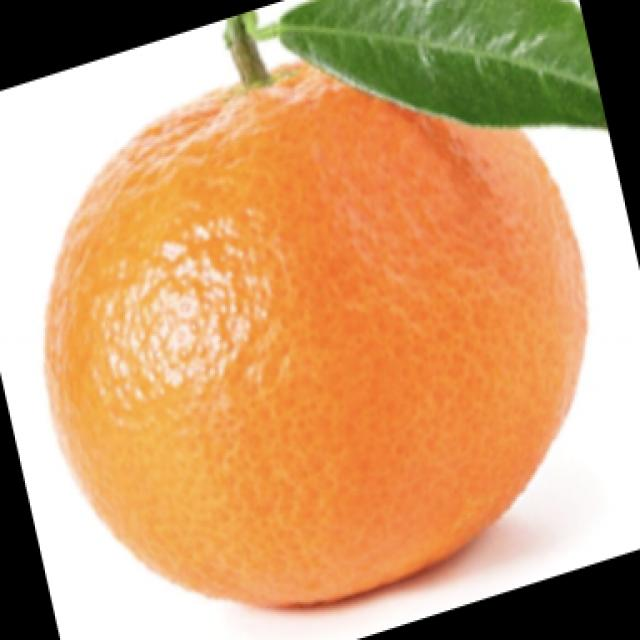fresh: (34, 26, 592, 624)
